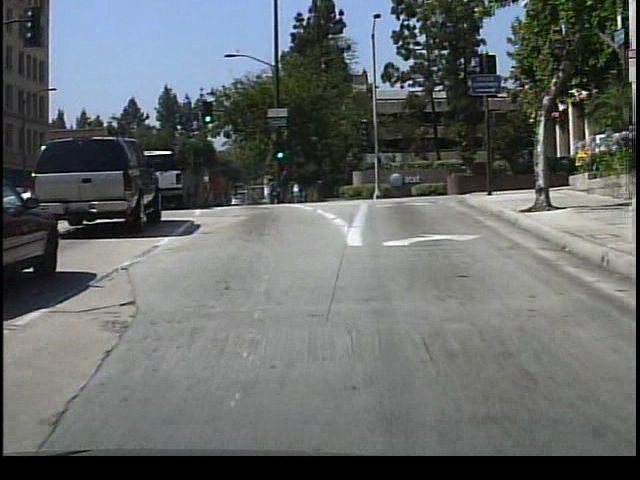person: (263, 171, 283, 206), (290, 178, 305, 205)
